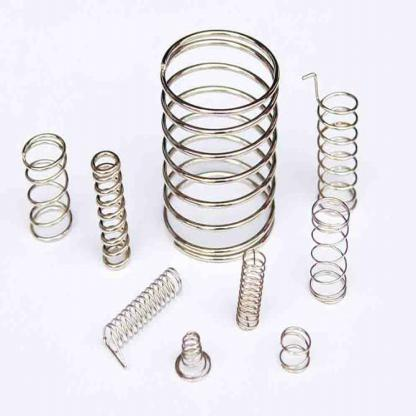FOD: (160, 30, 283, 264), (99, 267, 184, 372), (300, 64, 362, 207), (20, 128, 74, 248), (89, 147, 133, 271), (305, 197, 353, 307), (230, 249, 269, 336), (172, 328, 214, 383), (277, 321, 312, 375)
